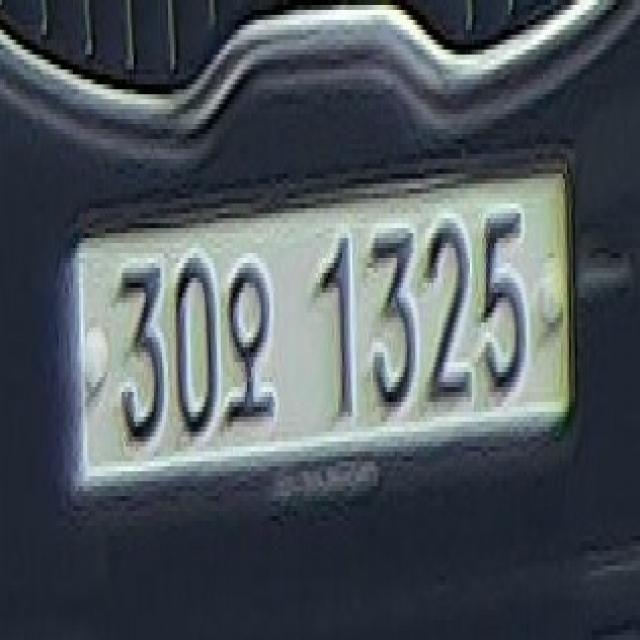0: (170, 243, 221, 437)
1: (320, 233, 354, 427)
2: (419, 213, 474, 407)
3: (118, 258, 168, 446), (371, 218, 419, 412)
5: (478, 213, 531, 402)
license_plate: (71, 159, 569, 496)
o: (220, 248, 282, 437)
